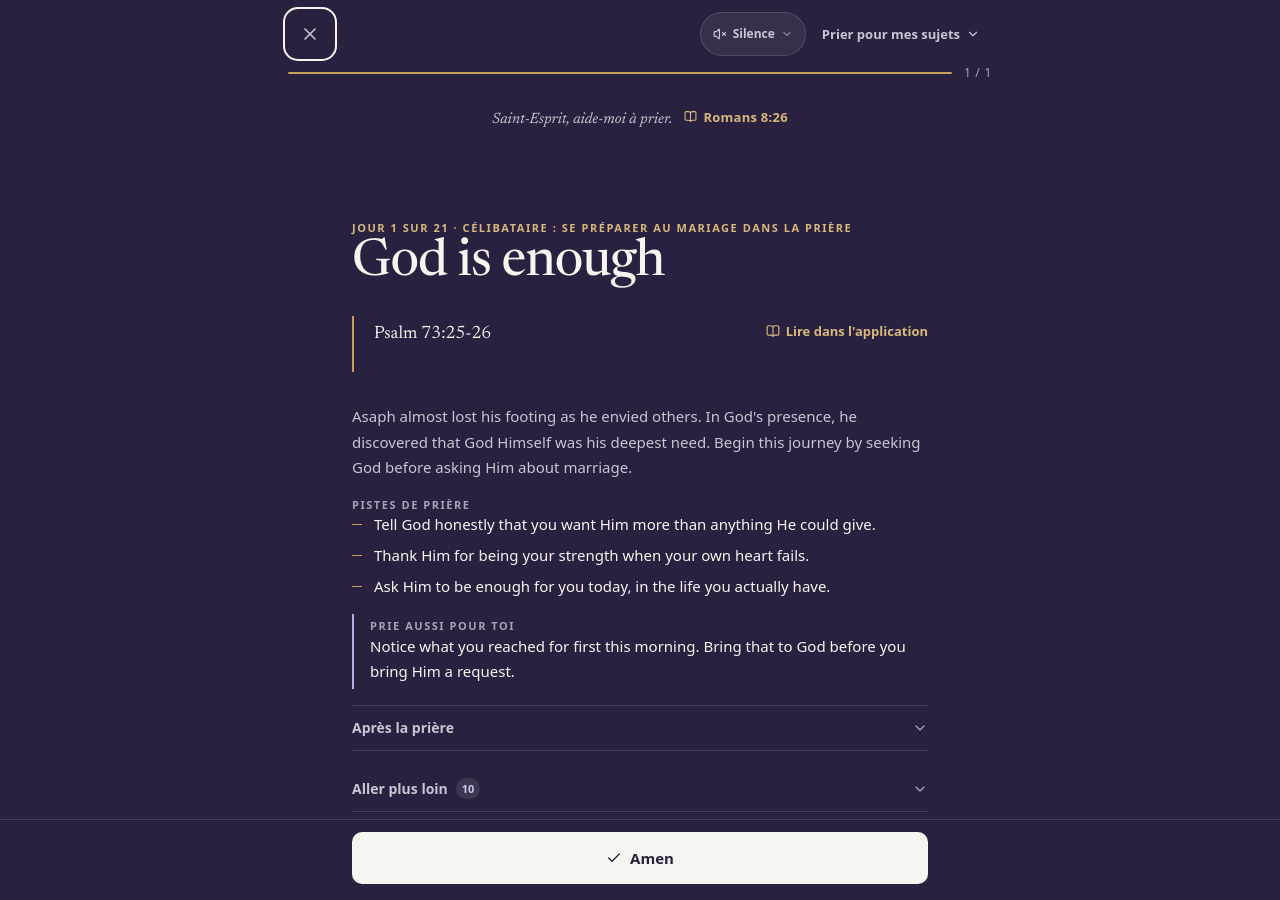
Test: PrayerSession — guided plan day content › walks a rich plan day through the ordinary session and keeps practice optional
This screenshot has width=1280, height=900.
Expected: the heading "God is enough" is shown, left=352, top=237, right=664, bottom=289
Expected: the text "Psalm 73:25-26" is shown, left=374, top=320, right=491, bottom=350
Click the button "Après la prière": coordinates (403, 727) left=352, top=706, right=928, bottom=750
(page scrolled)
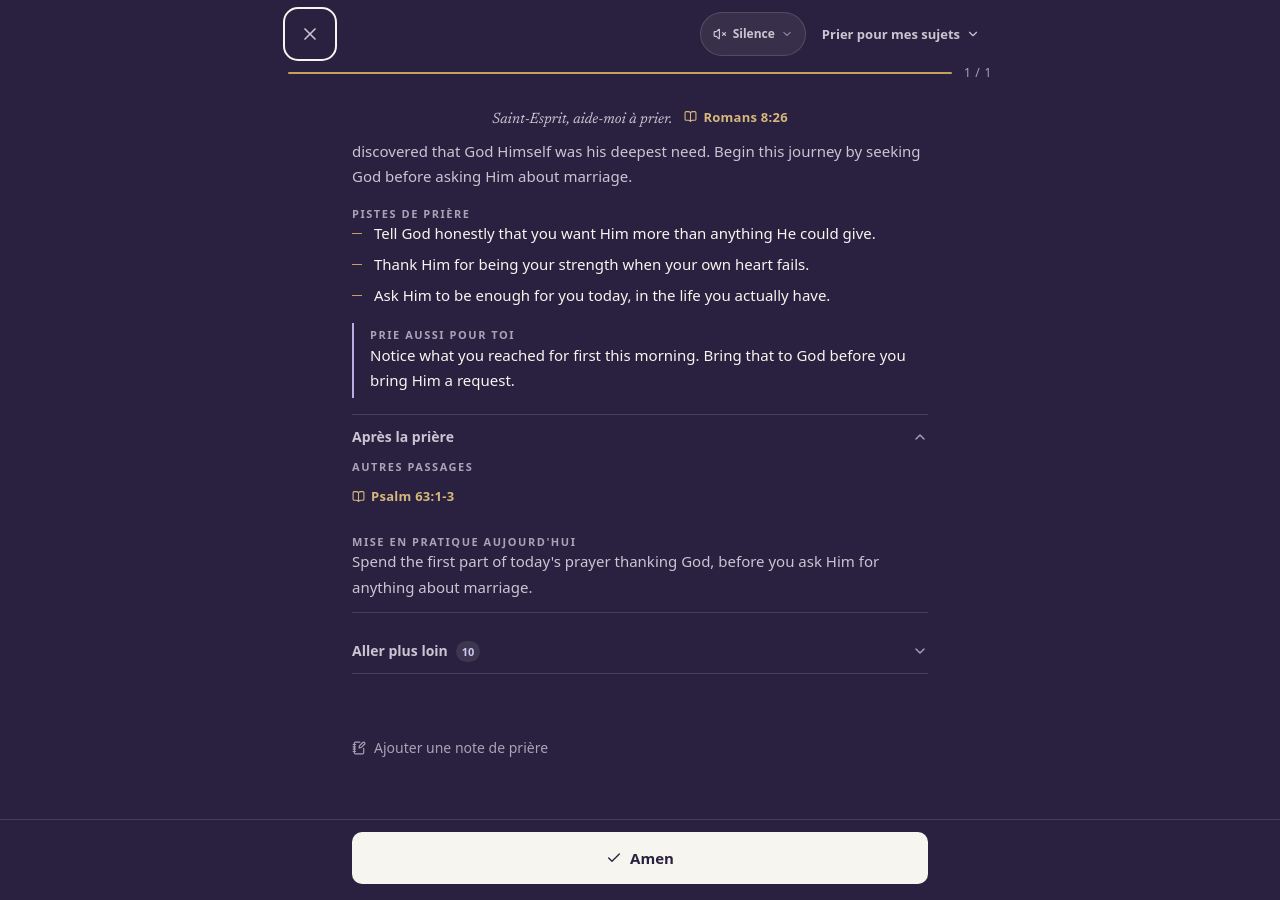
Expected: the button "Amen" is shown, left=352, top=832, right=928, bottom=884
Now the heading "Mise en pratique aujourd'hui" is shown, box left=352, top=534, right=576, bottom=549
Now the button "Ajouter une note de prière" is shown, box left=352, top=726, right=548, bottom=770
